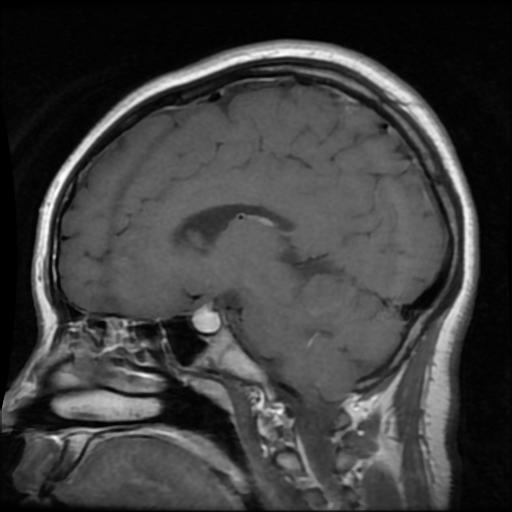Pituirity_tumour: (191, 305, 219, 332)
